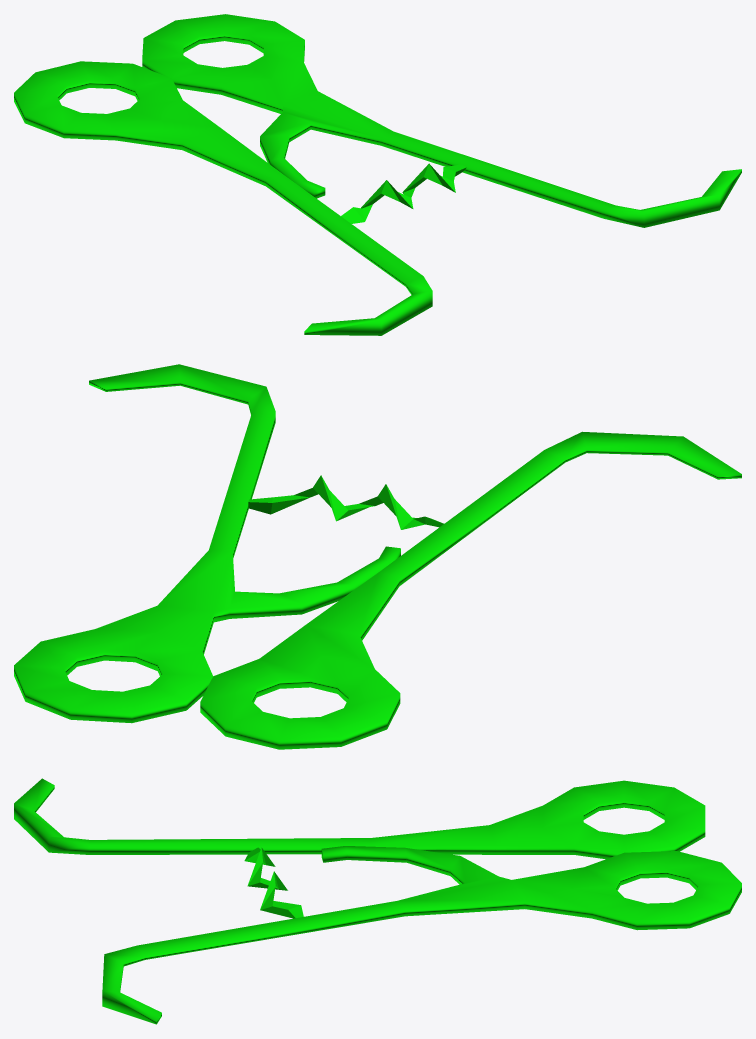
Rendered from SurgicalInstrumentB.fbx.
The picture shows the model from 3 angles, top to bottom: view 1: azimuth 30°, elevation 25°; view 2: azimuth 150°, elevation 25°; view 3: azimuth 270°, elevation 25°; orthographic projection. The views are drawn at different scales.
Parts seen in each view (by area): view 1: SurgicalInstrumentB; view 2: SurgicalInstrumentB; view 3: SurgicalInstrumentB.
Part boxes in pixels (x1,y1,x2,y2): SurgicalInstrumentB: (14,14,741,335); SurgicalInstrumentB: (14,364,741,749); SurgicalInstrumentB: (14,778,741,1024).
Size of the model in its own units: 21.44 by 1.43 by 27.18.
